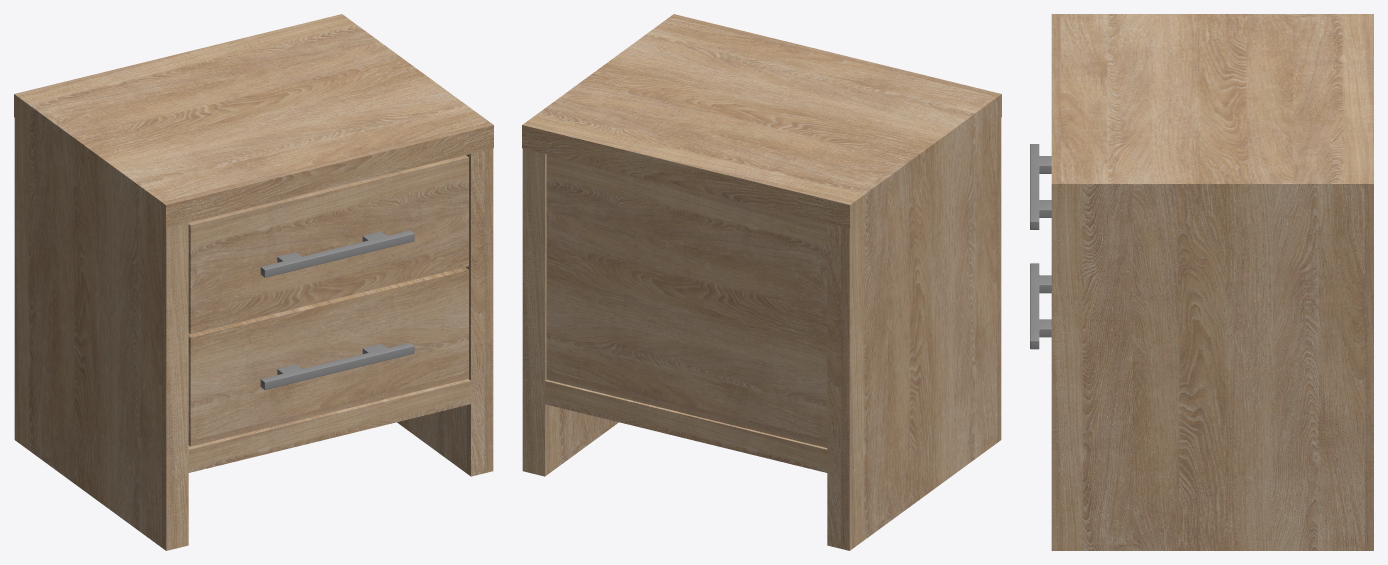
File: Nightstand.FBX
The picture shows the model from 3 angles, left to right: view 1: azimuth 30°, elevation 25°; view 2: azimuth 150°, elevation 25°; view 3: azimuth 270°, elevation 25°; orthographic projection. The views are drawn at different scales.
Visible parts, largest first — view 1: nightstand; view 2: nightstand; view 3: nightstand.
Boxes of the visible parts, box(x1,y1,x2,y2) form: nightstand: box(14, 14, 493, 550); nightstand: box(522, 14, 1001, 550); nightstand: box(1030, 14, 1373, 550).
Size of the model in its own units: 54.02 by 54.45 by 46.21.
2 materials, 1 textured.
